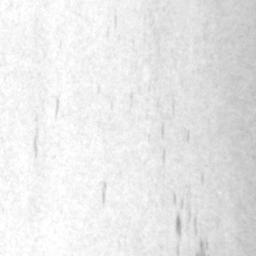Inclusion: (102, 184, 108, 204), (177, 216, 183, 234), (35, 140, 40, 156)
